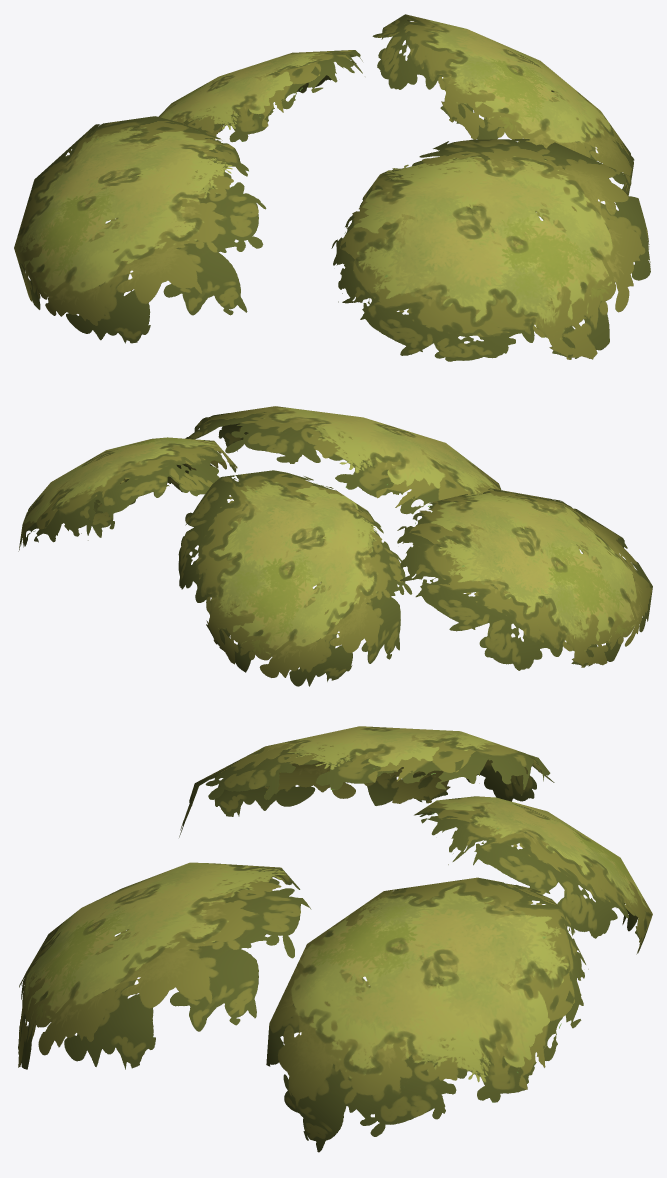
File: akacja liscie.fbx
3 views of the same model, one above another, from view 1: azimuth 30°, elevation 25°; view 2: azimuth 150°, elevation 25°; view 3: azimuth 270°, elevation 25° (orthographic). The views are drawn at different scales.
Visible parts, largest first — view 1: Akacja_1_L1; view 2: Akacja_1_L1; view 3: Akacja_1_L1.
Boxes of the visible parts, bbox=[...] form: Akacja_1_L1: bbox=[14, 14, 650, 361]; Akacja_1_L1: bbox=[18, 406, 652, 686]; Akacja_1_L1: bbox=[18, 726, 652, 1152].
Size of the model in its own units: 574 by 170 by 456.
1 material, 1 textured.
